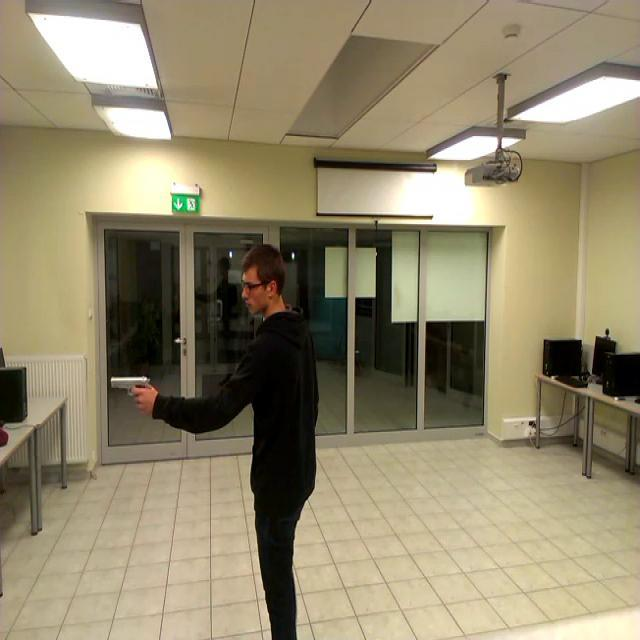Gun: (112, 376, 152, 406)
